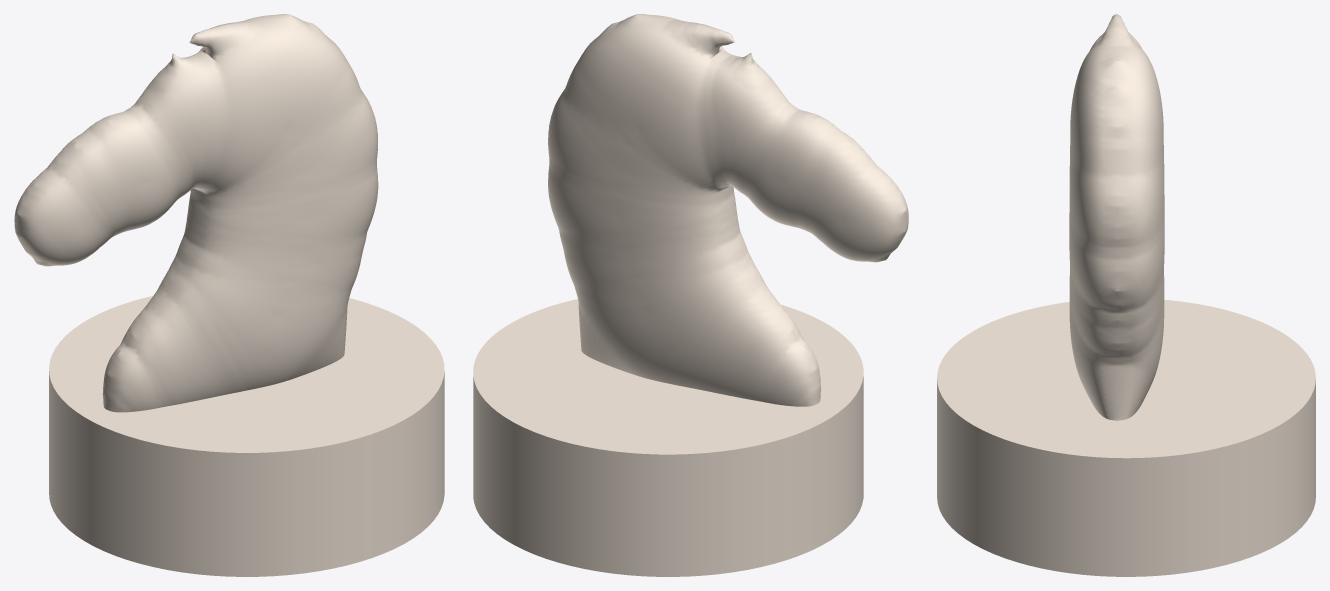
Rendered from knight.fbx.
3 views of the same model, side by side, from view 1: azimuth 30°, elevation 25°; view 2: azimuth 150°, elevation 25°; view 3: azimuth 270°, elevation 25° (orthographic). The views are drawn at different scales.
Parts seen in each view (by area): view 1: node_id8, node_id6; view 2: node_id8, node_id6; view 3: node_id6, node_id8.
Boxes of the visible parts, x1=… form: node_id8: x1=14, y1=14, x2=378, y2=412; node_id6: x1=49, y1=296, x2=444, y2=576; node_id8: x1=548, y1=14, x2=908, y2=406; node_id6: x1=473, y1=299, x2=863, y2=576; node_id6: x1=937, y1=299, x2=1315, y2=576; node_id8: x1=1069, y1=14, x2=1164, y2=420.
Bounding box in the file's own units: 0.4545 × 0.512 × 0.3838.
Materials: 2 (2 with a texture image).
